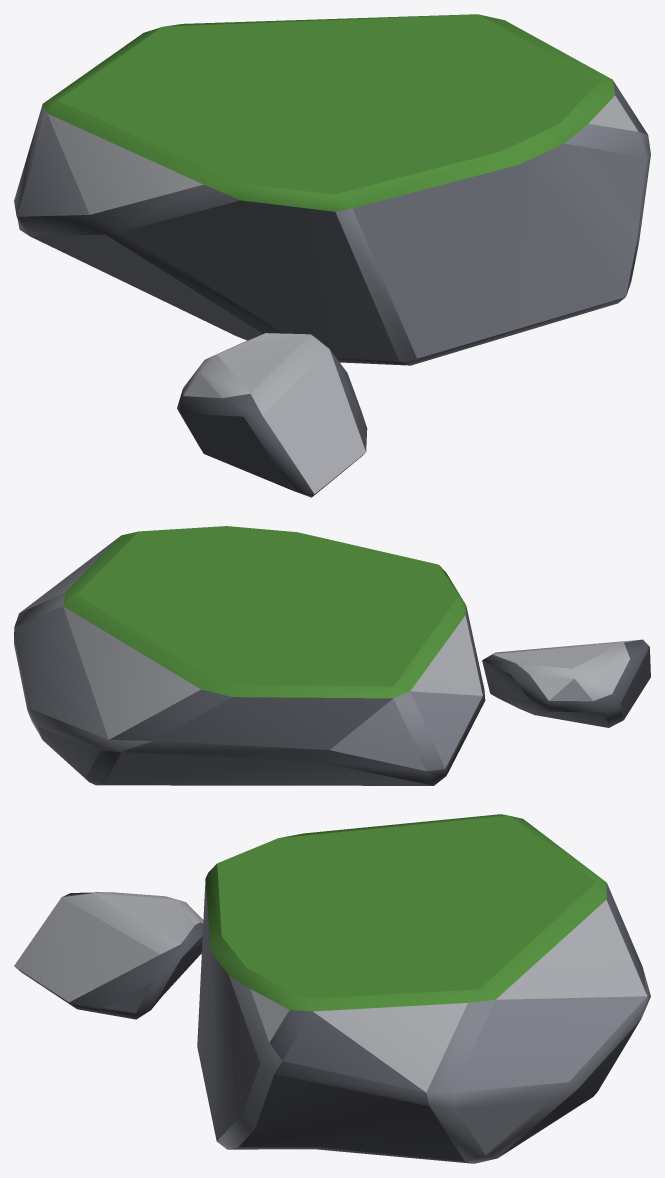
File: Rock_12.glb
The picture shows the model from 3 angles, top to bottom: view 1: azimuth 30°, elevation 25°; view 2: azimuth 150°, elevation 25°; view 3: azimuth 270°, elevation 25°; orthographic projection. The views are drawn at different scales.
Parts seen in each view (by area): view 1: Rock_12; view 2: Rock_12; view 3: Rock_12.
Part boxes in pixels (x1,y1,x2,y2): Rock_12: (14,14,650,497); Rock_12: (14,526,650,785); Rock_12: (14,814,650,1163).
Size of the model in its own units: 2.35 by 0.7351 by 2.53.
